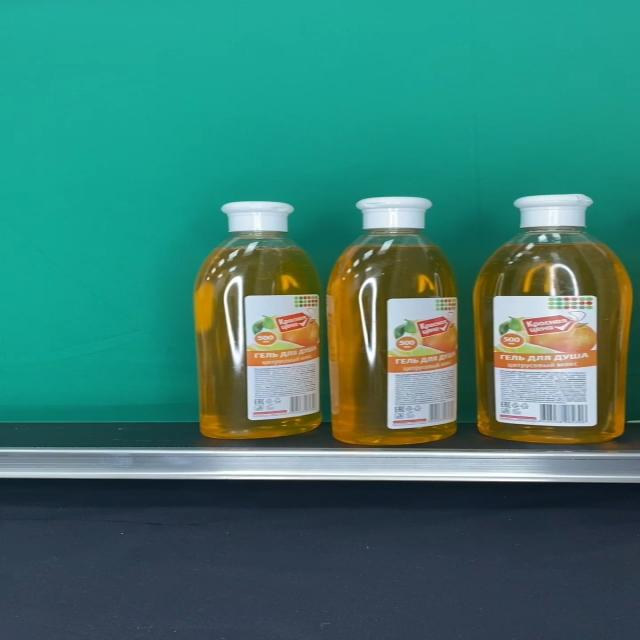Bottle: (474, 194, 633, 443), (326, 197, 458, 446), (196, 202, 321, 438)
Cap: (513, 194, 594, 228), (355, 197, 433, 229), (221, 202, 295, 232)
